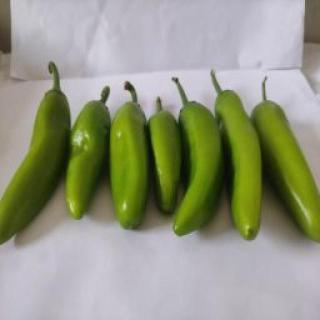Cabai Hijau: (1, 60, 320, 249)
